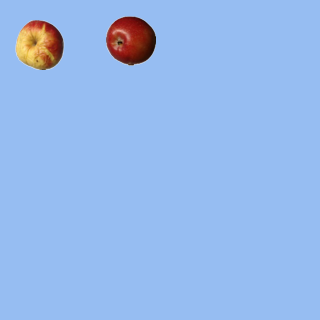Apple Braeburn: (105, 15, 155, 65)
Apple Red Yellow 1: (14, 19, 64, 69)
